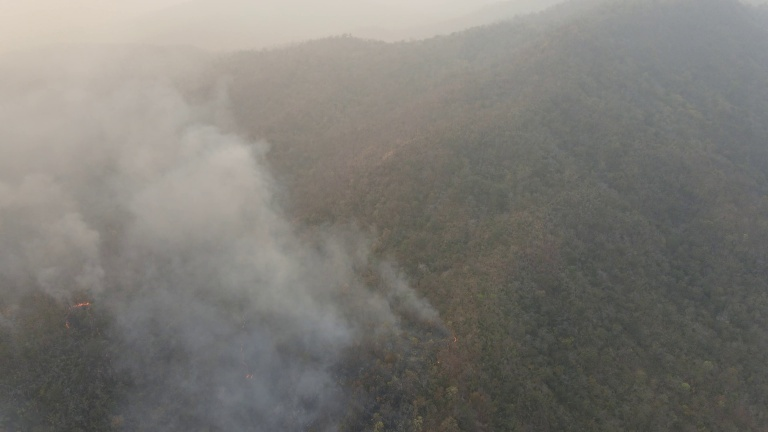fire: (54, 294, 99, 340), (421, 329, 460, 375)
smoke: (1, 51, 455, 432)
